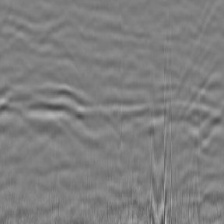cavities: (1, 108, 215, 216)
